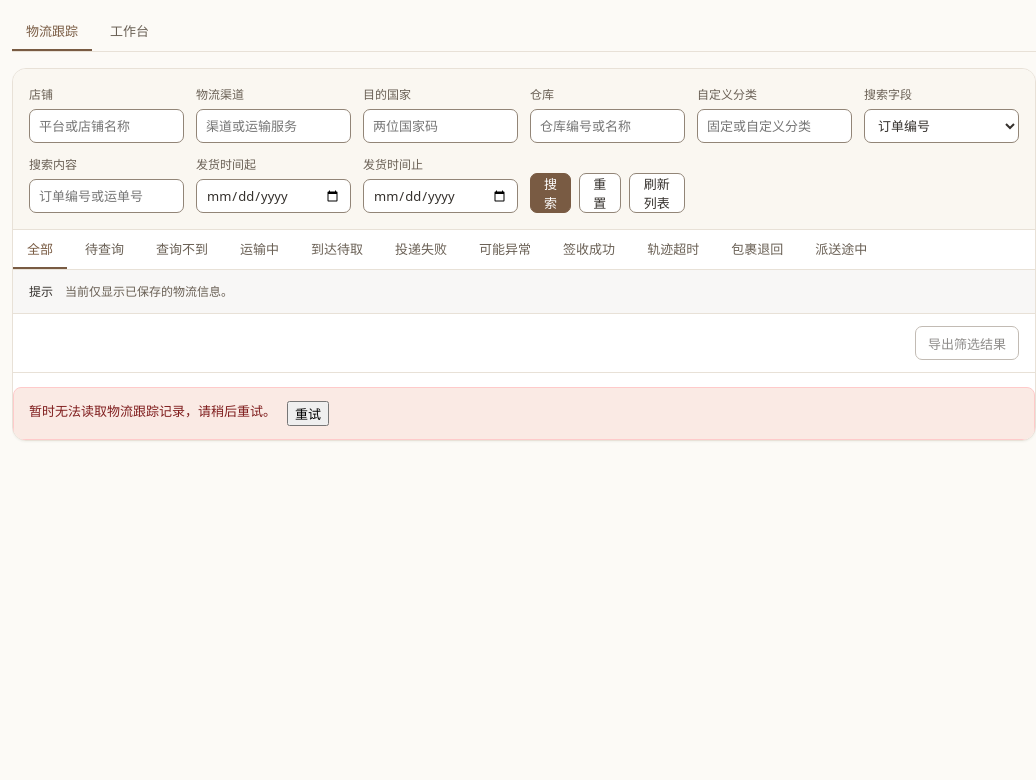
Scenario: logistics tracking page › announces list failures and retries without stale rows
Expected: the message shows "暂时无法读取物流跟踪记录", top-left (29, 402), bottom-right (276, 420)
Click the button "重试".
click(308, 414)  # box top-left (287, 401), bottom-right (329, 426)
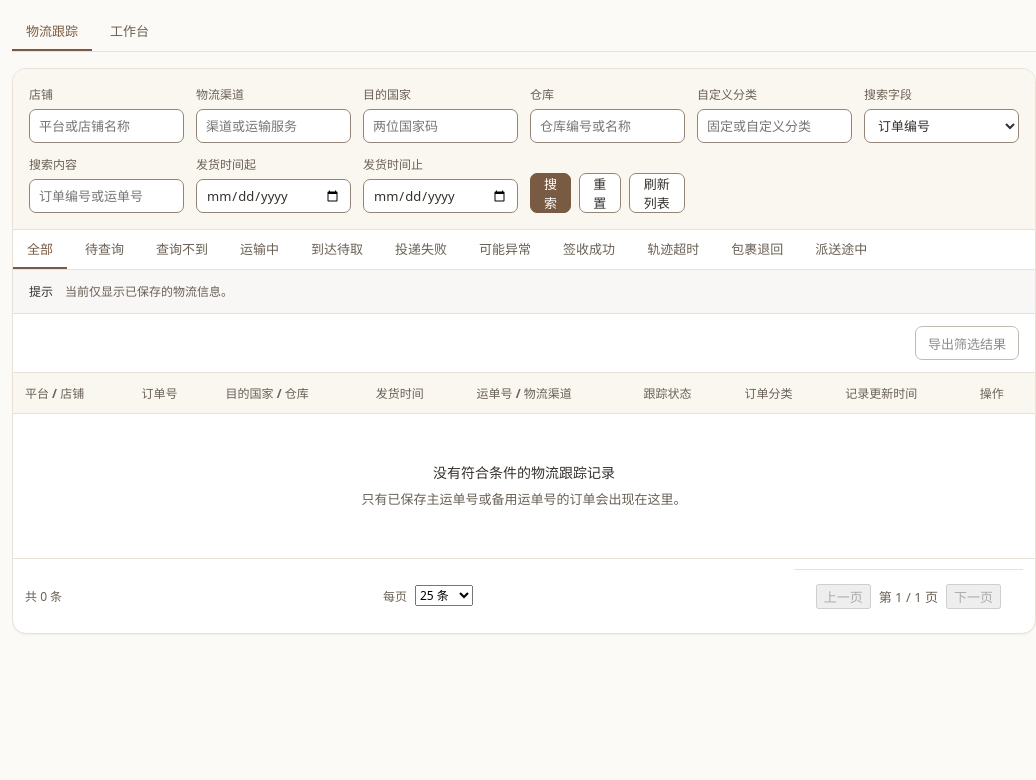
Result: the text "没有符合条件的物流跟踪记录" is shown at top-left (433, 462), bottom-right (615, 482)
